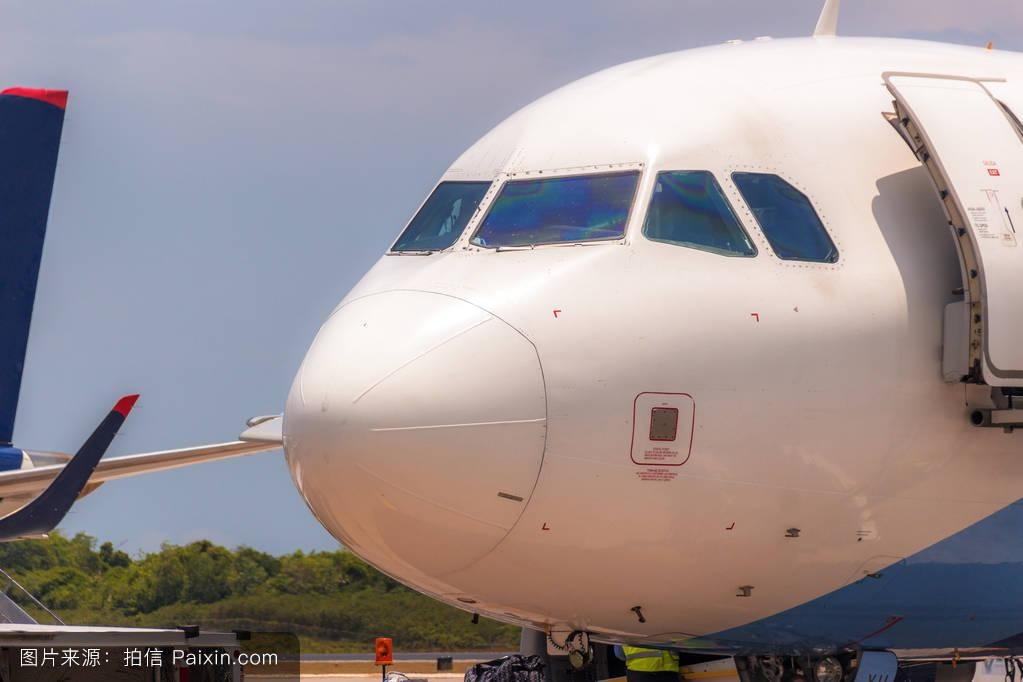airplane: (263, 36, 1023, 643)
